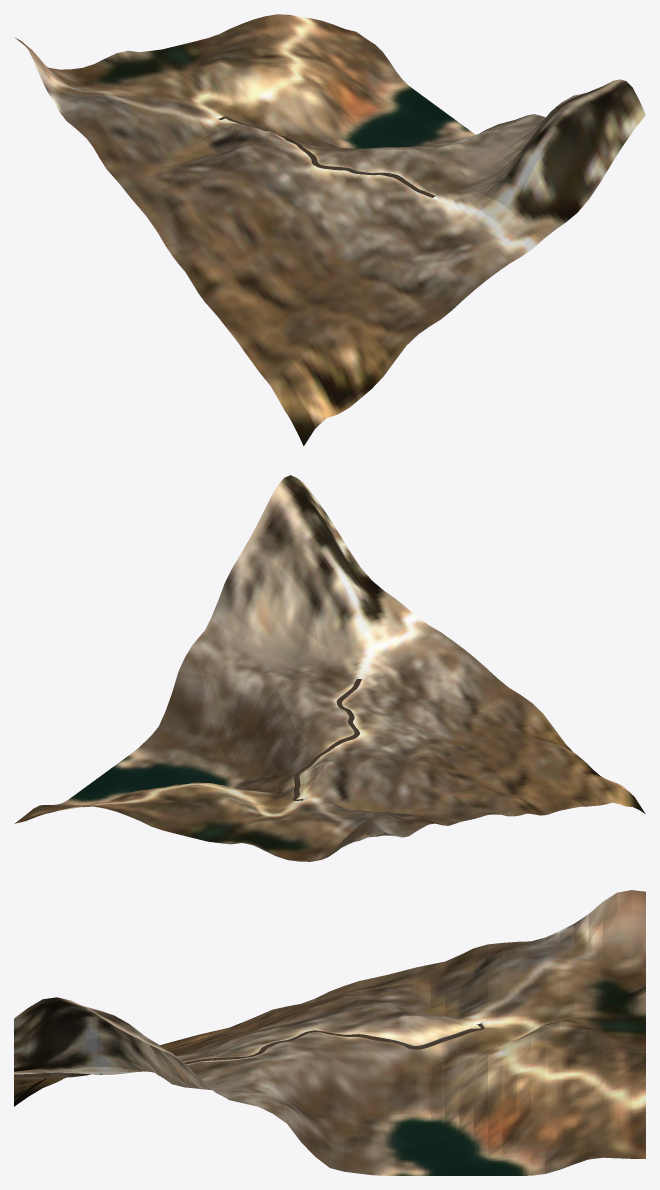
The model's file is raurastart_stage2_visual.glb.
3 views of the same model, one above another, from view 1: azimuth 30°, elevation 25°; view 2: azimuth 150°, elevation 25°; view 3: azimuth 270°, elevation 25° (orthographic). The views are drawn at different scales.
Visible parts, largest first — view 1: Ladera DSM; view 2: Ladera DSM; view 3: Ladera DSM, Road, Terrain_Dirt_Right.
Part boxes in pixels (x1,y1,x2,y2): Ladera DSM: [15, 14, 645, 445]; Ladera DSM: [14, 475, 645, 861]; Ladera DSM: [14, 890, 645, 1175]; Road: [185, 1024, 484, 1063]; Terrain_Dirt_Right: [184, 1024, 480, 1062].
Size of the model in its own units: 900 by 672 by 1320.
5 materials, 5 textured.
